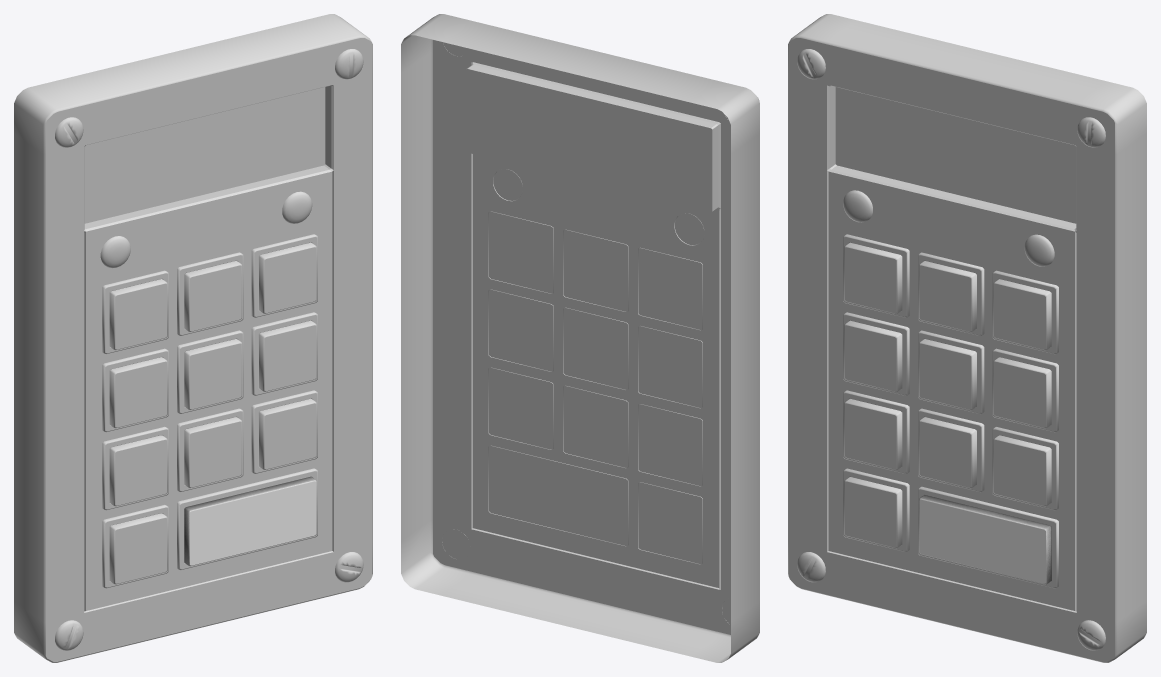
File: Keypad.fbx
3 views of the same model, side by side, from view 1: azimuth 30°, elevation 25°; view 2: azimuth 150°, elevation 25°; view 3: azimuth 330°, elevation 25° (orthographic).
Visible parts, largest first — view 1: Cube.023, CodeClear, CodeEnter, Code1, Code4, Code7, Code9, Code5, Code8, Code6, Code3, Code2; view 2: Cube.023; view 3: Cube.023, CodeClear, Code6, Code3, Code7, Code4, Code9, Code1, CodeEnter, Code5, Code8, Code2.
Boxes of the visible parts, <box> form: Cube.023: <box>14,14,372,662</box>; CodeClear: <box>184,477,316,566</box>; CodeEnter: <box>109,513,167,584</box>; Code1: <box>109,279,167,350</box>; Code4: <box>109,357,167,428</box>; Code7: <box>109,435,167,506</box>; Code9: <box>259,398,316,469</box>; Code5: <box>184,339,241,410</box>; Code8: <box>184,417,241,488</box>; Code6: <box>259,320,316,391</box>; Code3: <box>259,242,316,313</box>; Code2: <box>184,261,241,331</box>; Cube.023: <box>401,14,759,662</box>; Cube.023: <box>788,14,1146,662</box>; CodeClear: <box>919,495,1051,584</box>; Code6: <box>993,357,1051,428</box>; Code3: <box>993,279,1051,350</box>; Code7: <box>844,399,902,469</box>; Code4: <box>844,320,902,391</box>; Code9: <box>993,435,1051,506</box>; Code1: <box>844,242,902,313</box>; CodeEnter: <box>844,477,902,548</box>; Code5: <box>919,339,976,410</box>; Code8: <box>919,417,976,488</box>; Code2: <box>919,261,976,331</box>.
Bounding box in the file's own units: 9.34 × 14.99 × 1.81.
